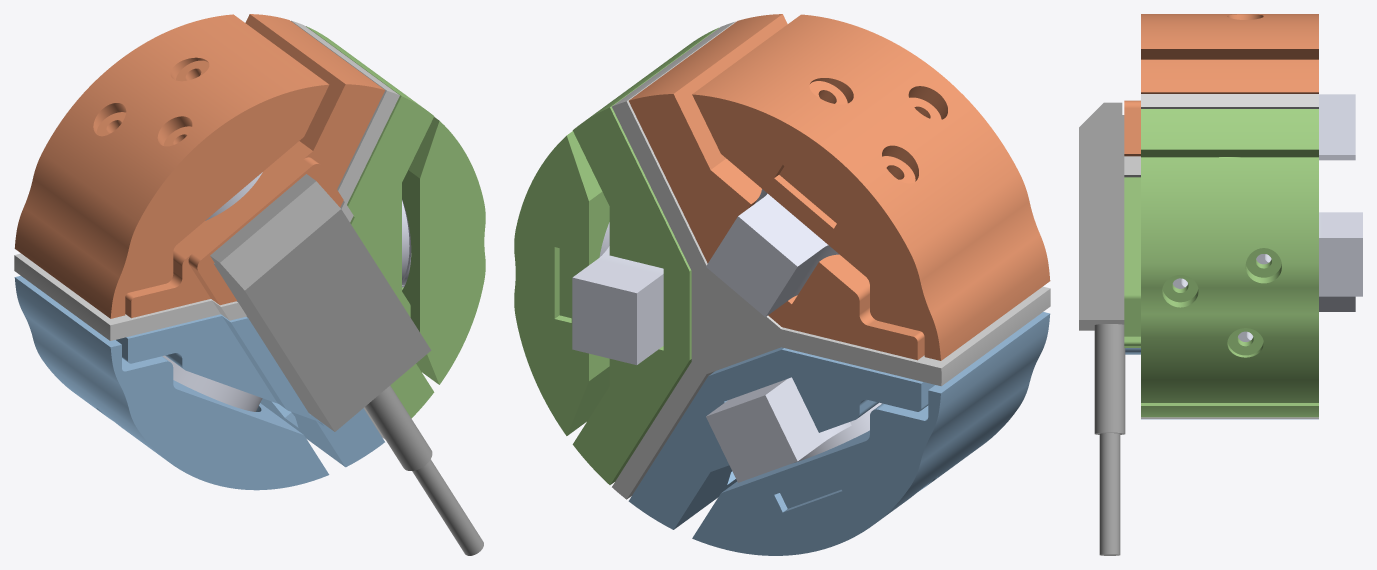
3 views of the same model, side by side, from view 1: azimuth 30°, elevation 25°; view 2: azimuth 150°, elevation 25°; view 3: azimuth 270°, elevation 25° (orthographic). The views are drawn at different scales.
Parts seen in each view (by area): view 1: ati_cover_middle, polhemus_sensor, ati_cover_index, ati_base_middle, ati_cover_thumb, ati_base_index, ati_base_thumb, mid_connect, ATI_nano17 (×2); view 2: ati_cover_middle, ati_cover_index, ATI_nano17 (×3), ati_base_middle, mid_connect, ati_base_thumb, ati_cover_thumb, ati_base_index; view 3: ati_cover_thumb, polhemus_sensor, ati_base_thumb, ati_cover_middle, ATI_nano17 (×3), ati_base_middle, mid_connect.
Part boxes in pixels (x1,y1,x2,y2): ati_cover_middle: (14,14,329,318); polhemus_sensor: (210,174,483,555); ati_cover_index: (14,275,329,490); ati_base_middle: (125,14,384,318); ati_cover_thumb: (402,117,485,384); ati_base_index: (116,314,384,467); ati_base_thumb: (306,26,434,418); mid_connect: (14,20,399,438); ATI_nano17 (×2): (162,199,411,411); ati_cover_middle: (692,14,1050,360); ati_cover_index: (692,312,1050,555); ATI_nano17 (×3): (572,189,881,482); ati_base_middle: (629,14,924,360); mid_connect: (612,21,1050,499); ati_base_thumb: (572,27,718,484); ati_cover_thumb: (514,131,609,435); ati_base_index: (628,347,934,529); ati_cover_thumb: (1141,157,1318,402); polhemus_sensor: (1079,102,1125,555); ati_base_thumb: (1124,109,1318,417); ati_cover_middle: (1141,14,1318,59); ATI_nano17 (×3): (1172,94,1362,341); ati_base_middle: (1124,59,1318,156); mid_connect: (1124,94,1318,418).
Bounding box in the file's own units: 0.0497 × 0.0619 × 0.035.
